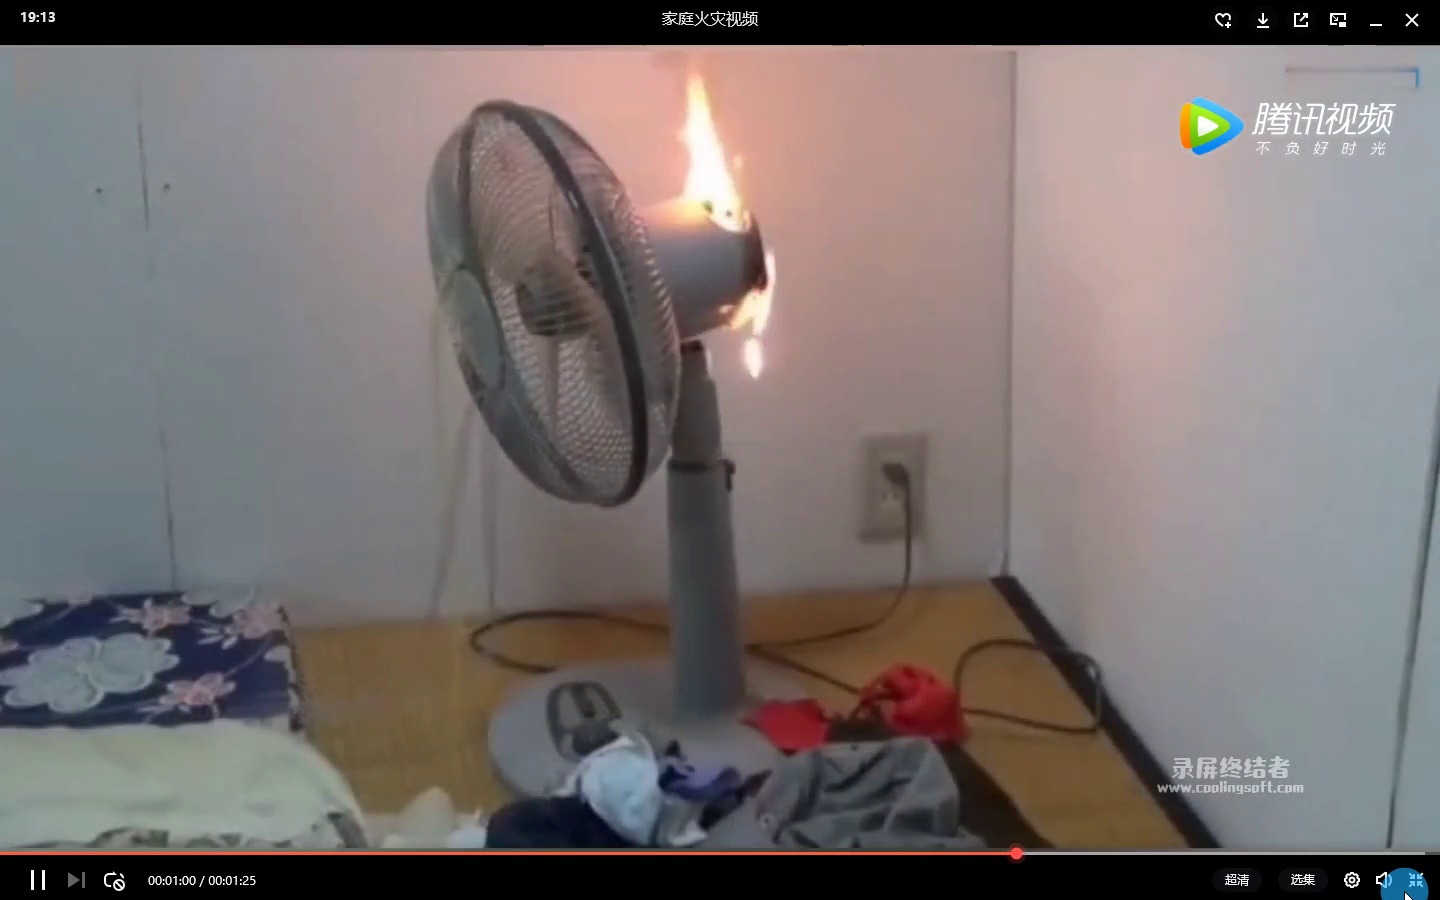fire: (674, 75, 761, 235), (731, 237, 779, 376)
